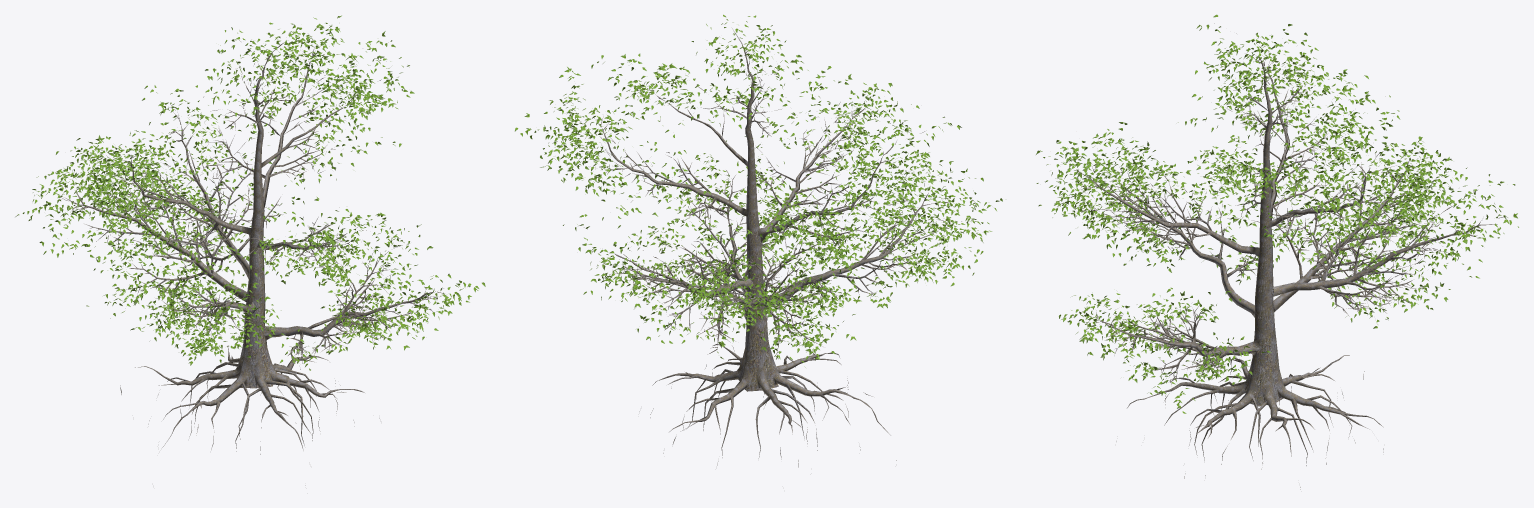
The model's file is tree-real-b.glb.
3 renders of one model, left to right at view 1: azimuth 30°, elevation 25°; view 2: azimuth 150°, elevation 25°; view 3: azimuth 270°, elevation 25°, orthographic. The views are drawn at different scales.
Parts seen in each view (by area): view 1: Tree_Leaves.001_3, Tree_Bark.001_1; view 2: Tree_Leaves.001_3, Tree_Bark.001_1; view 3: Tree_Leaves.001_3, Tree_Bark.001_1.
Part boxes in pixels (bbox=[...]): Tree_Leaves.001_3: bbox=[15, 15, 485, 370]; Tree_Bark.001_1: bbox=[59, 34, 444, 485]; Tree_Leaves.001_3: bbox=[514, 14, 1002, 367]; Tree_Bark.001_1: bbox=[566, 28, 991, 467]; Tree_Leaves.001_3: bbox=[1036, 14, 1518, 413]; Tree_Bark.001_1: bbox=[1055, 23, 1505, 489].
Size of the model in its own units: 7.81 by 8.77 by 8.69.
2 materials, 2 textured.
